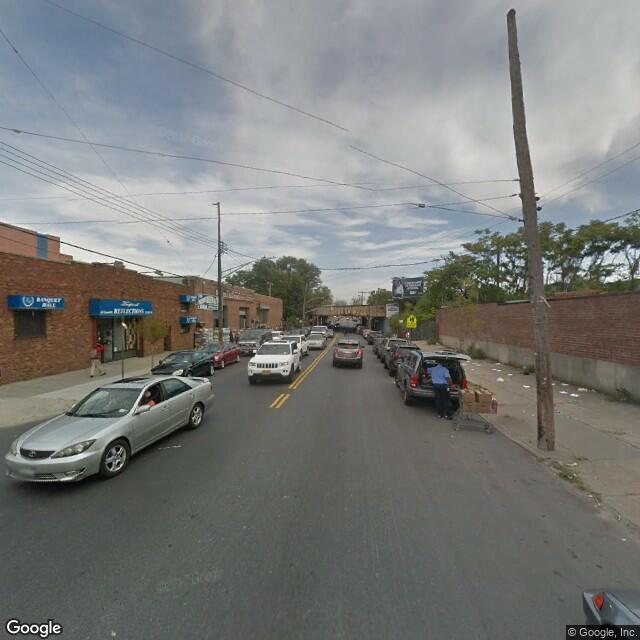litter: (466, 361, 535, 392), (552, 376, 592, 404)
